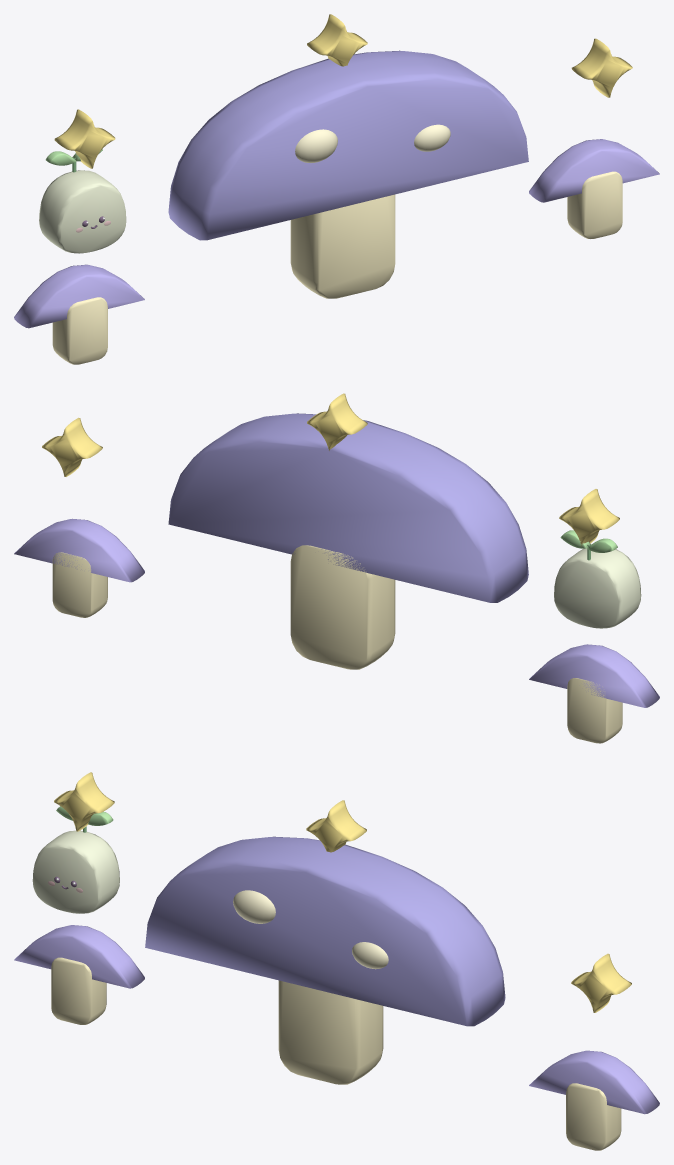
File: decor_2_star.glb
The picture shows the model from 3 angles, top to bottom: view 1: azimuth 30°, elevation 25°; view 2: azimuth 150°, elevation 25°; view 3: azimuth 330°, elevation 25°; orthographic projection.
Visible parts, largest first — view 1: decor_2_star; view 2: decor_2_star; view 3: decor_2_star.
Part boxes in pixels (x1=…): decor_2_star: x1=14, y1=14, x2=659, y2=364; decor_2_star: x1=14, y1=393, x2=659, y2=743; decor_2_star: x1=14, y1=772, x2=659, y2=1150.
Size of the model in its own units: 19.71 by 8.22 by 2.38.
